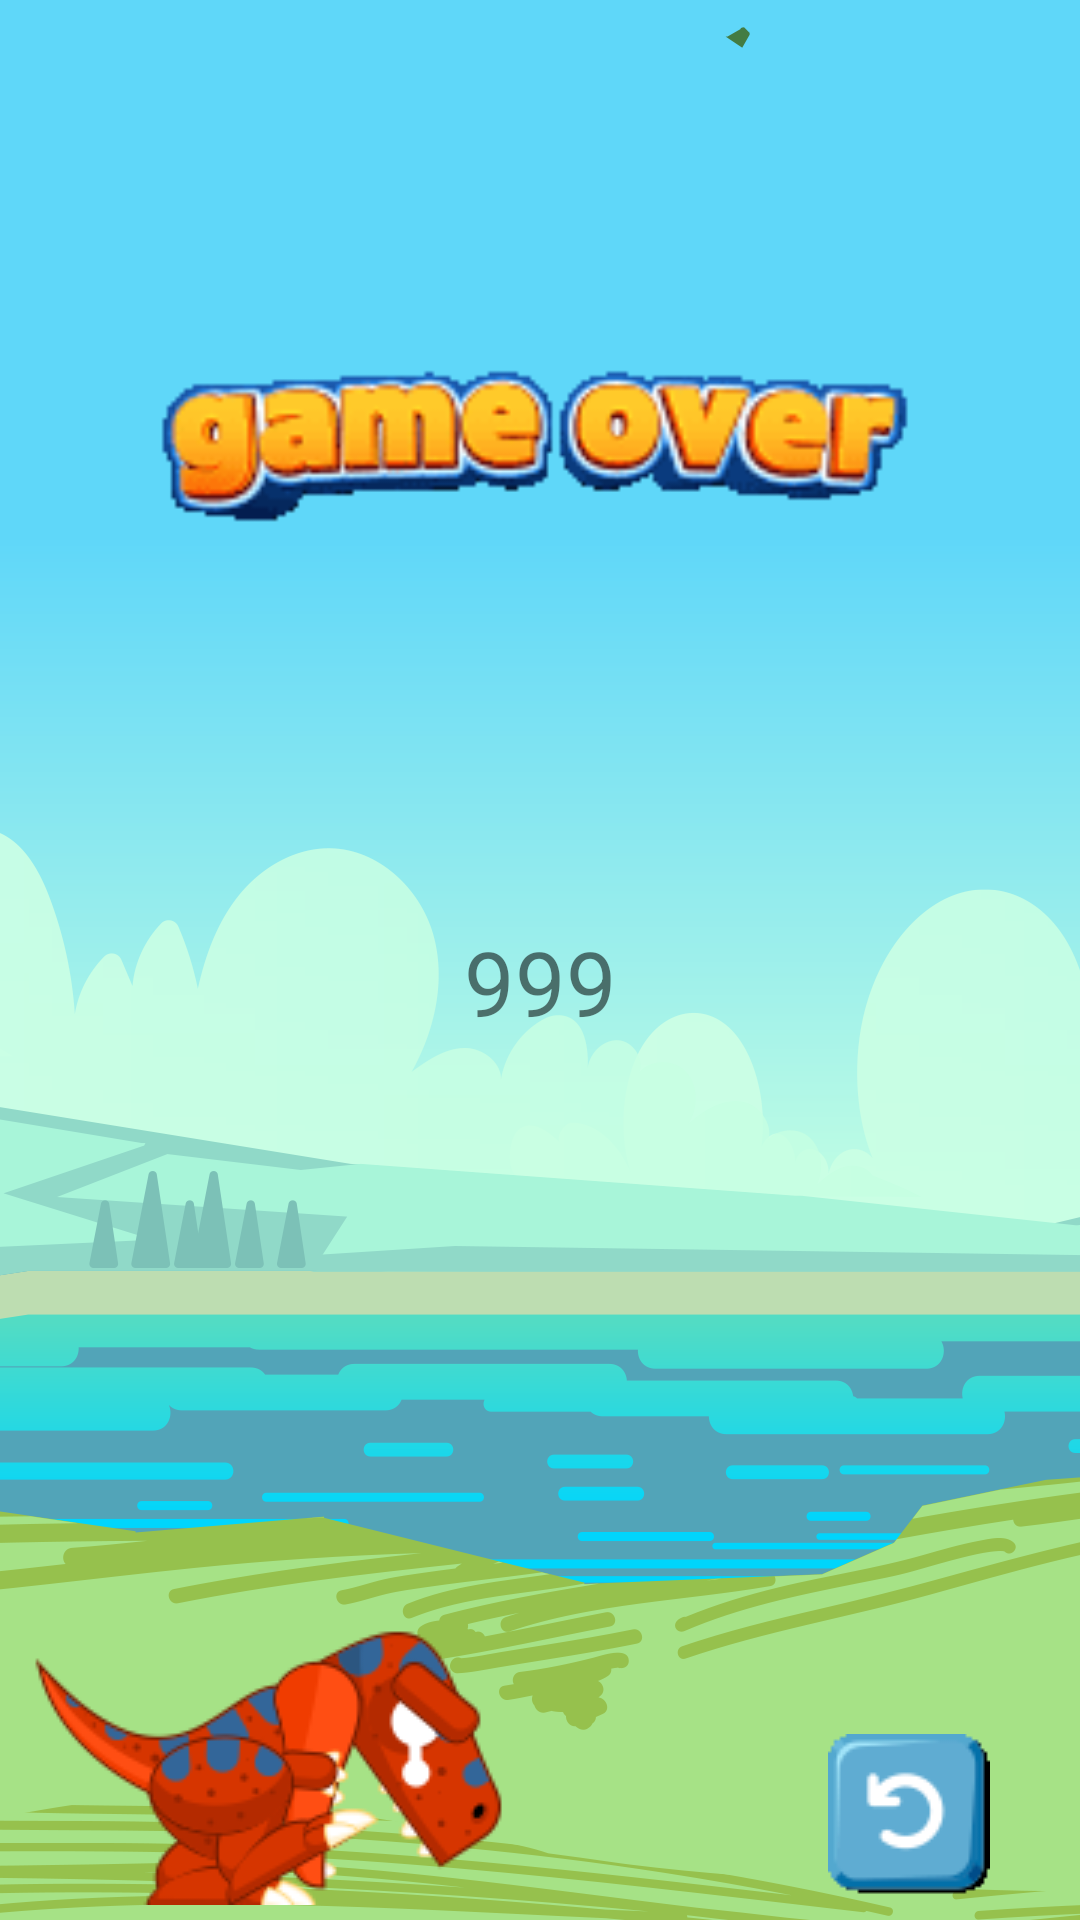

Named icons in this screenshot (1080 x 1920) and their centers, point (x, y):
playagain: point (909, 1815)
